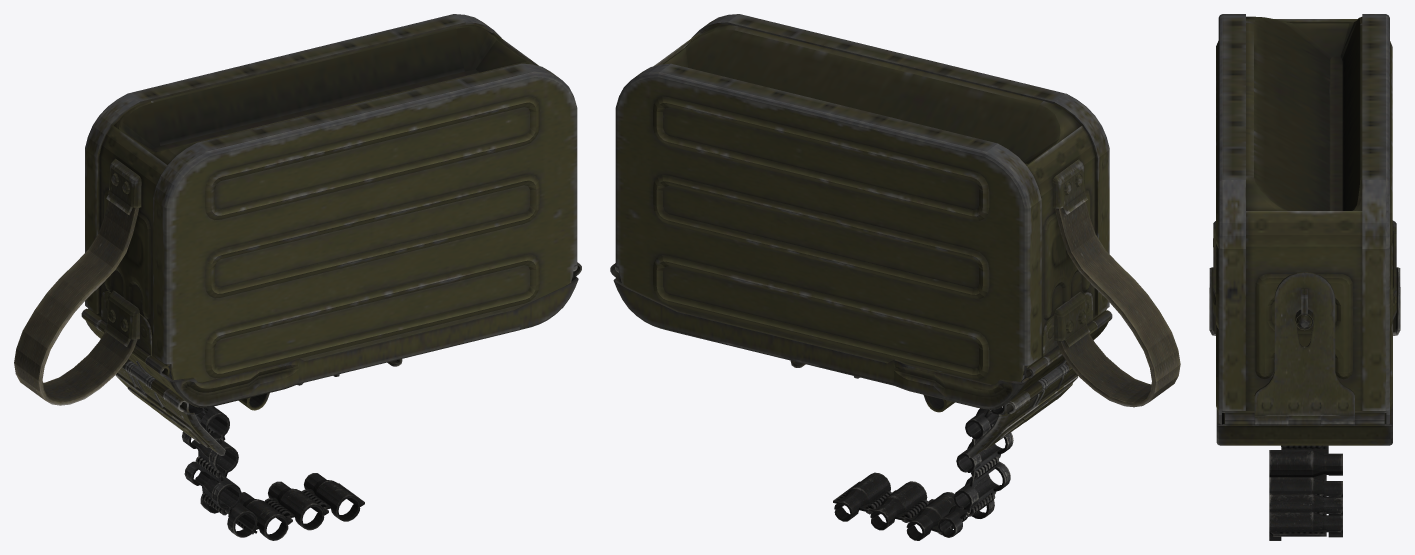
3 renders of one model, left to right at view 1: azimuth 30°, elevation 25°; view 2: azimuth 150°, elevation 25°; view 3: azimuth 270°, elevation 25°, orthographic. The views are drawn at different scales.
Visible parts, largest first — view 1: TW_646372518610c40fc20204e8_fed_PZ_Import; view 2: TW_646372518610c40fc20204e8_fed_PZ_Import; view 3: TW_646372518610c40fc20204e8_fed_PZ_Import.
Boxes of the visible parts, <box> form: TW_646372518610c40fc20204e8_fed_PZ_Import: <box>14,14,581,540</box>; TW_646372518610c40fc20204e8_fed_PZ_Import: <box>610,14,1180,540</box>; TW_646372518610c40fc20204e8_fed_PZ_Import: <box>1209,14,1400,540</box>.
Size of the model in its own units: 0.1828 by 0.055 by 0.1405.
1 material, 1 textured.
